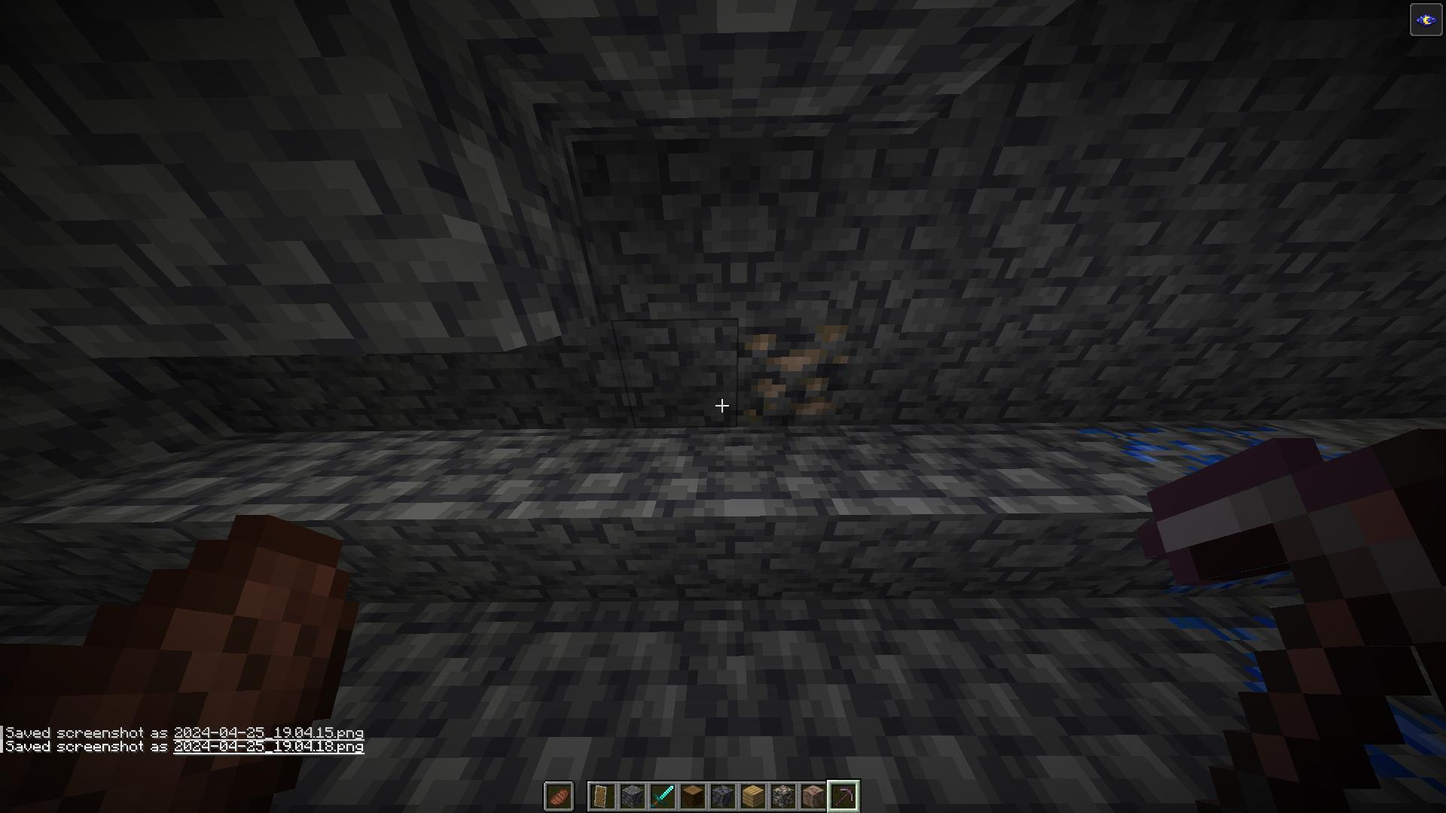iron ore: (746, 320, 848, 410)
